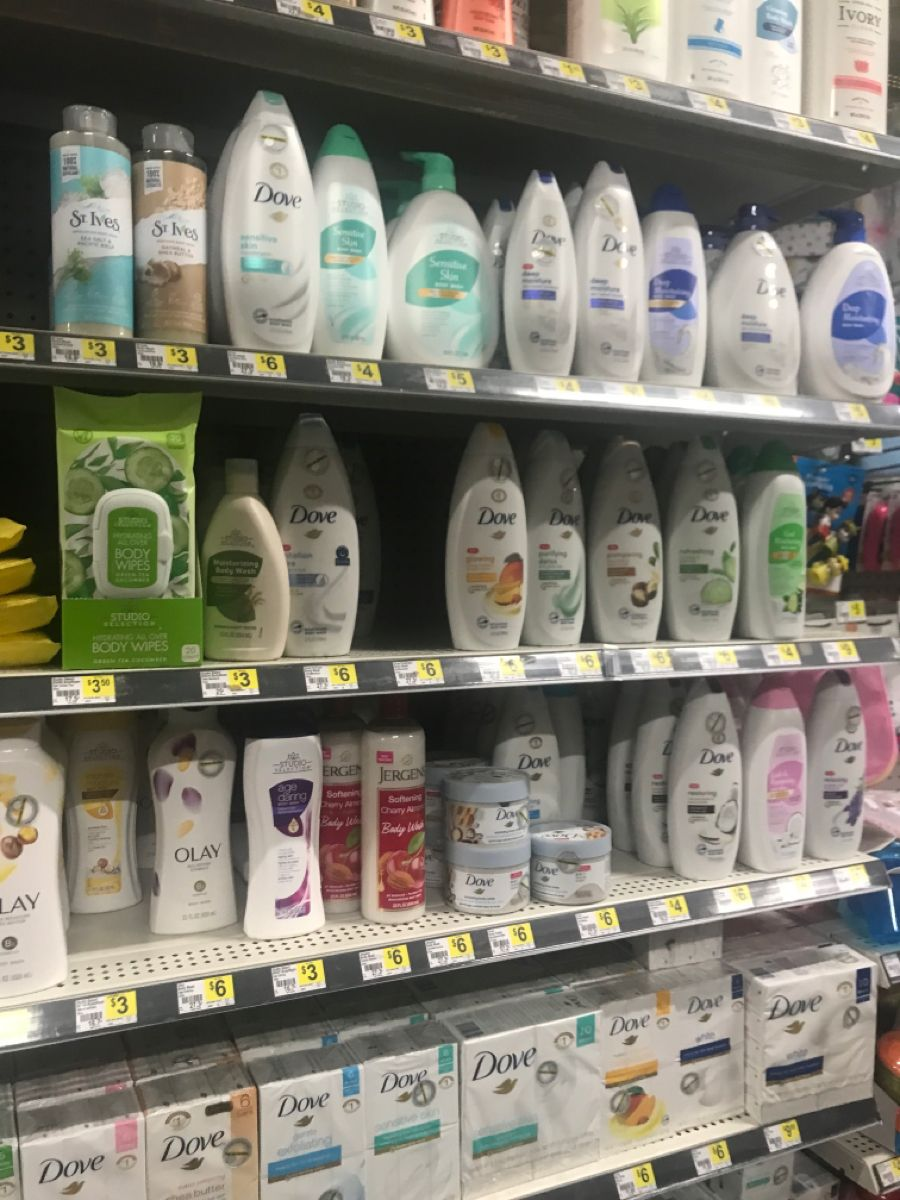Shampoo: (208, 91, 317, 351), (445, 423, 526, 650), (707, 204, 800, 393), (245, 736, 323, 938)
